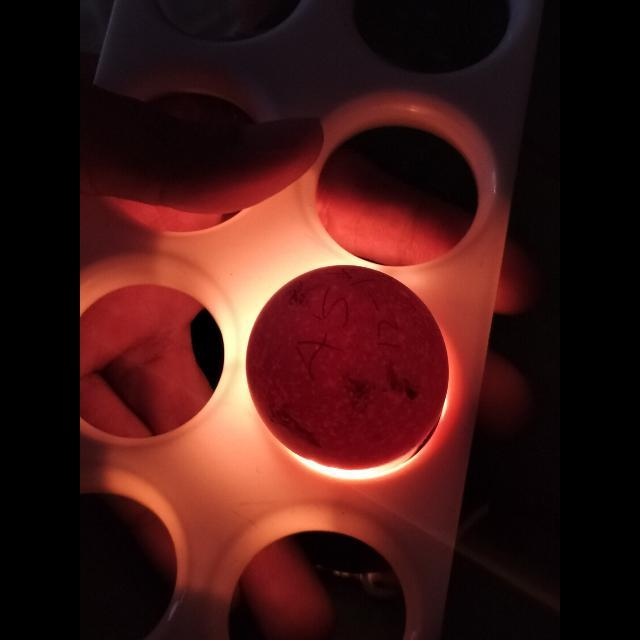B - Fair: (247, 268, 451, 474)
